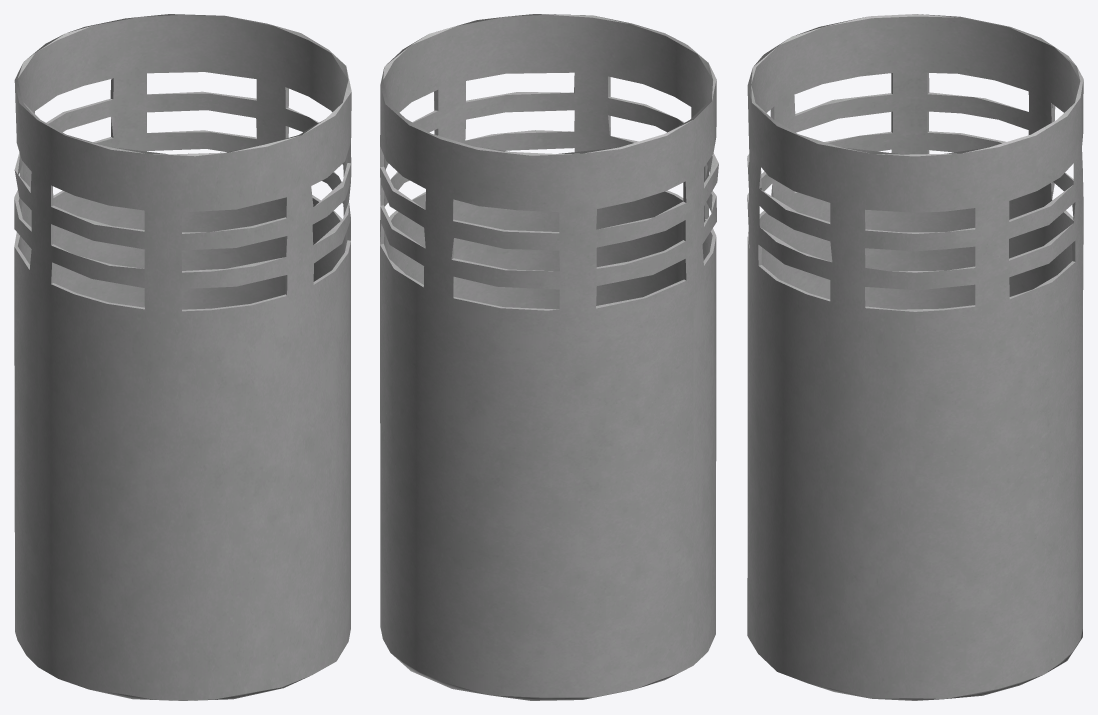
Rendered from SM_Trash_Can.glb.
3 views of the same model, side by side, from view 1: azimuth 30°, elevation 25°; view 2: azimuth 150°, elevation 25°; view 3: azimuth 270°, elevation 25° (orthographic).
Parts seen in each view (by area): view 1: SM_Trash_Can; view 2: SM_Trash_Can; view 3: SM_Trash_Can.
Boxes of the visible parts, x1,y1,x2,y2 form: SM_Trash_Can: (14, 14, 351, 700); SM_Trash_Can: (380, 14, 718, 700); SM_Trash_Can: (747, 14, 1083, 700).
Size of the model in its own units: 0.2118 by 0.3794 by 0.2116.
1 material, 1 textured.
